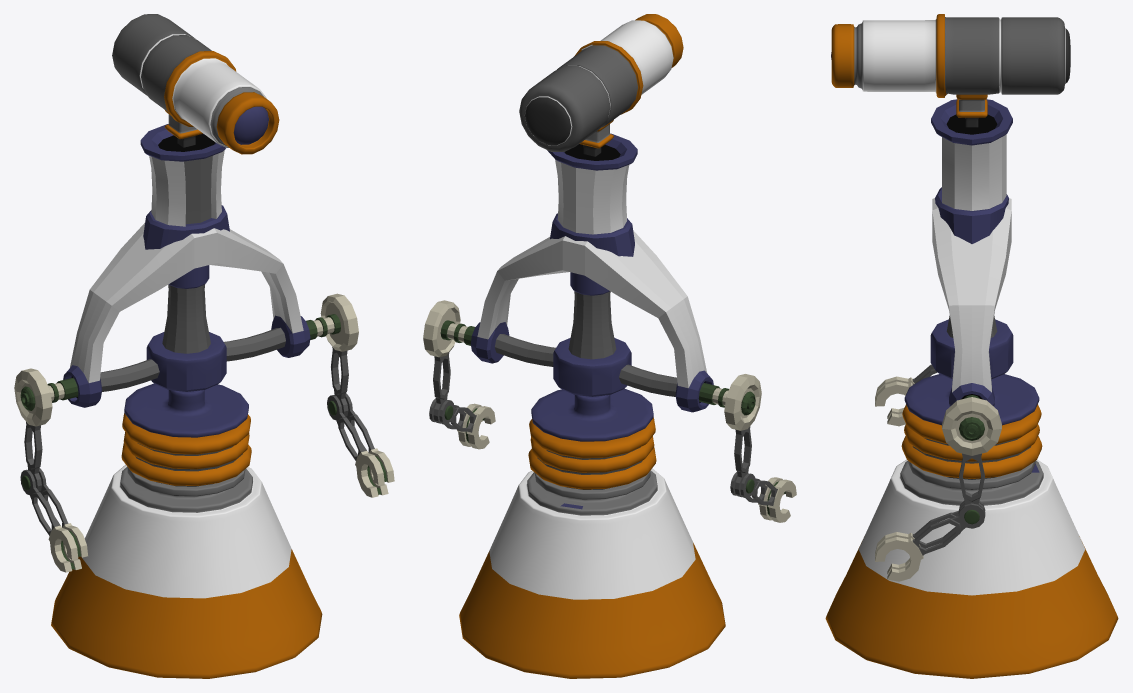
Rendered from npcRobo13.fbx.
3 renders of one model, left to right at view 1: azimuth 30°, elevation 25°; view 2: azimuth 150°, elevation 25°; view 3: azimuth 270°, elevation 25°, orthographic. The views are drawn at different scales.
Parts seen in each view (by area): view 1: npcRobo13; view 2: npcRobo13; view 3: npcRobo13.
Boxes of the visible parts, x1,y1,x2,y2 form: npcRobo13: (14,14,394,678); npcRobo13: (423,14,796,678); npcRobo13: (825,14,1118,678).
Bounding box in the file's own units: 114 × 195 × 85.65.
